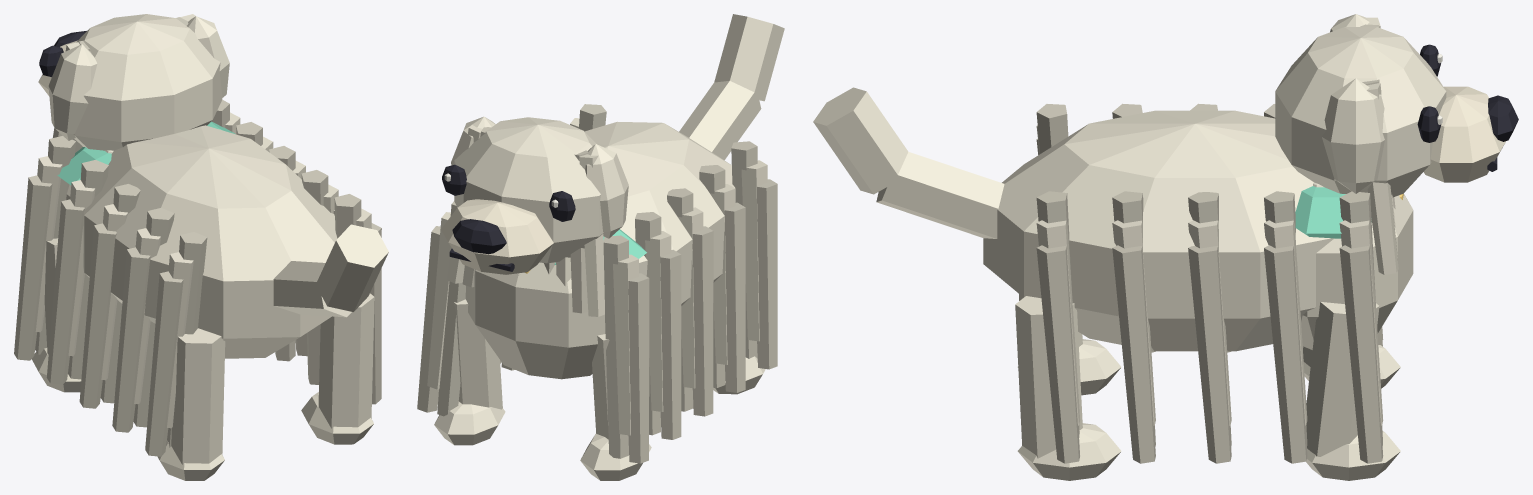
File: komondor.glb
3 views of the same model, side by side, from view 1: azimuth 30°, elevation 25°; view 2: azimuth 150°, elevation 25°; view 3: azimuth 270°, elevation 25° (orthographic). The views are drawn at different scales.
Parts seen in each view (by area): view 1: BodyMesh, HeadMesh; view 2: BodyMesh, HeadMesh; view 3: BodyMesh, HeadMesh.
Boxes of the visible parts, x1=… form: BodyMesh: x1=14, y1=100, x2=388, y2=480; HeadMesh: x1=38, y1=14, x2=229, y2=152; BodyMesh: x1=417, y1=14, x2=784, y2=480; HeadMesh: x1=441, y1=116, x2=628, y2=316; BodyMesh: x1=813, y1=87, x2=1413, y2=480; HeadMesh: x1=1275, y1=14, x2=1518, y2=274.
Bounding box in the file's own units: 0.6564 × 0.925 × 1.49.
